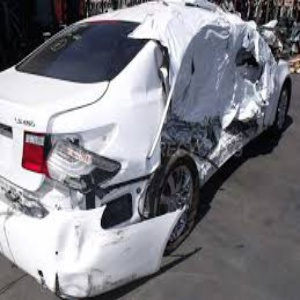bumper: (36, 201, 187, 298)
tail_lights: (20, 133, 122, 188)
